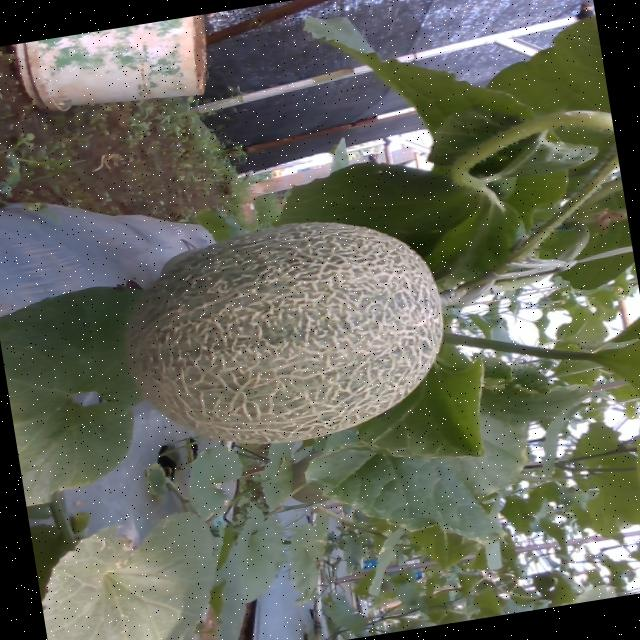melon: (124, 223, 443, 444)
